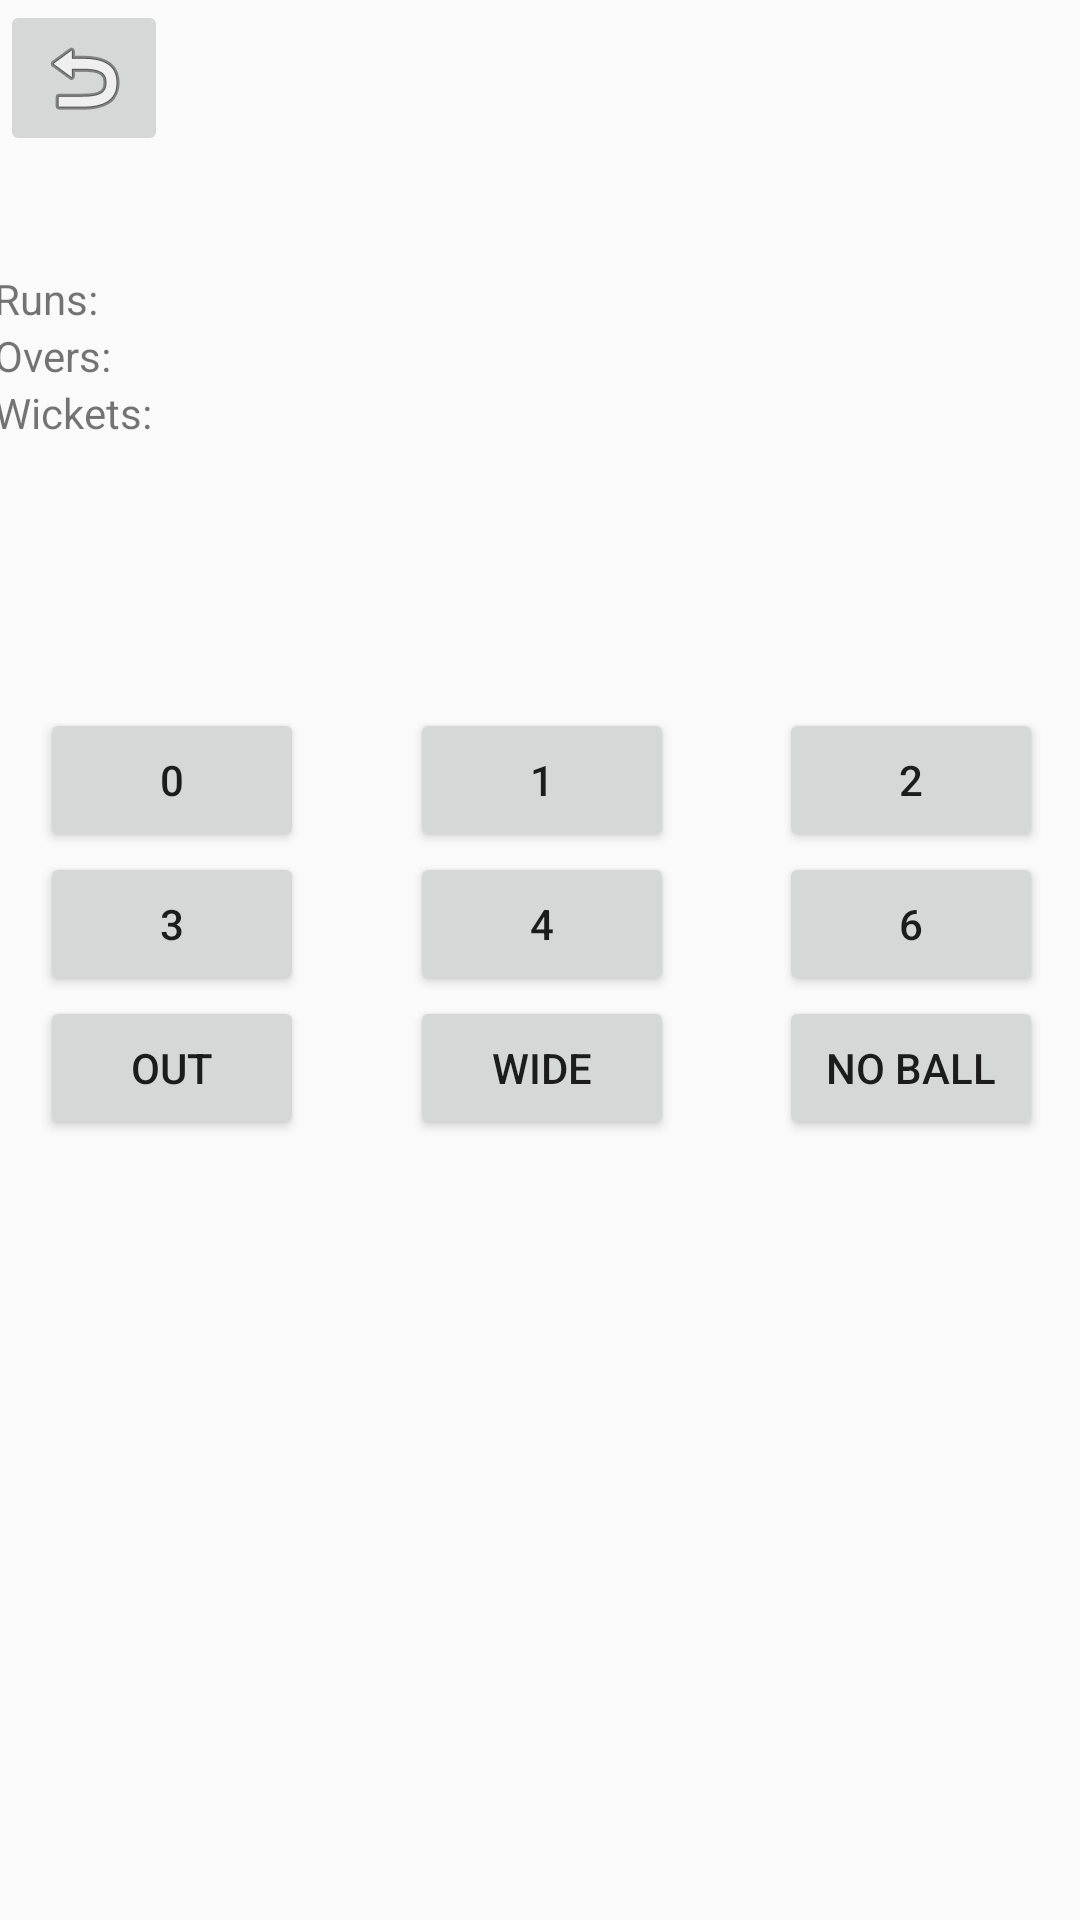

Screen size 1080x1920. Icon name, then its box in pixels as (x1, y1, x2, y2):
Undo: (12, 18, 156, 138)
